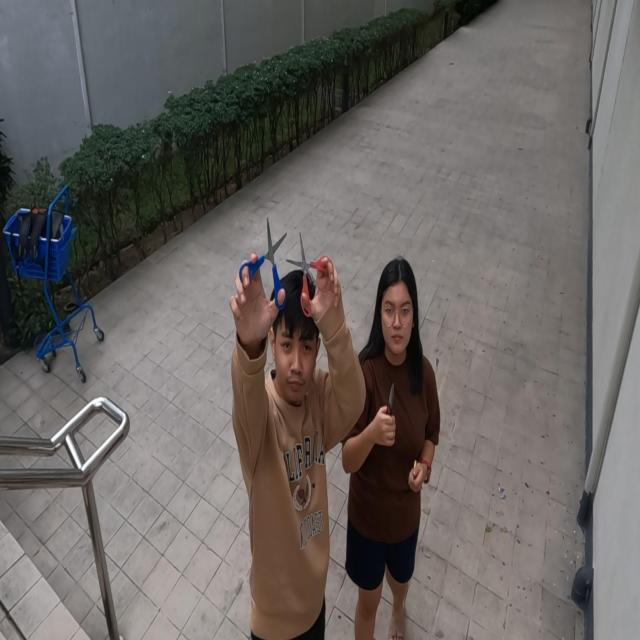scissor: (239, 216, 287, 310), (286, 232, 334, 318), (387, 382, 395, 415)
